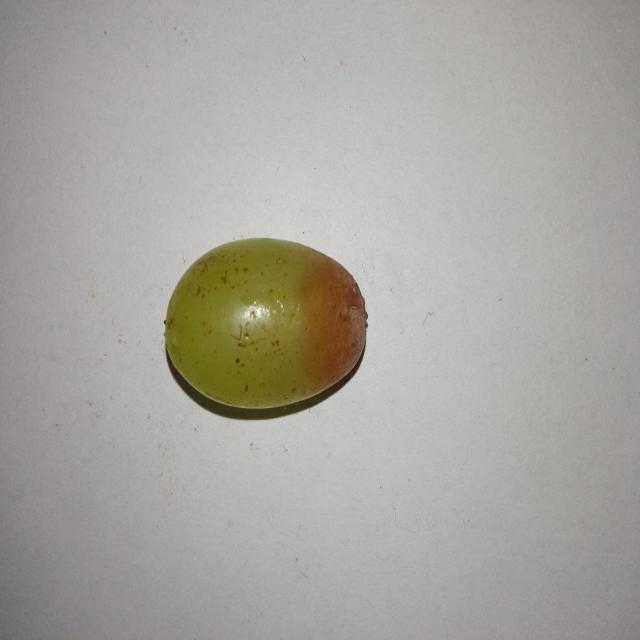fresh_grape: (169, 241, 349, 403)
